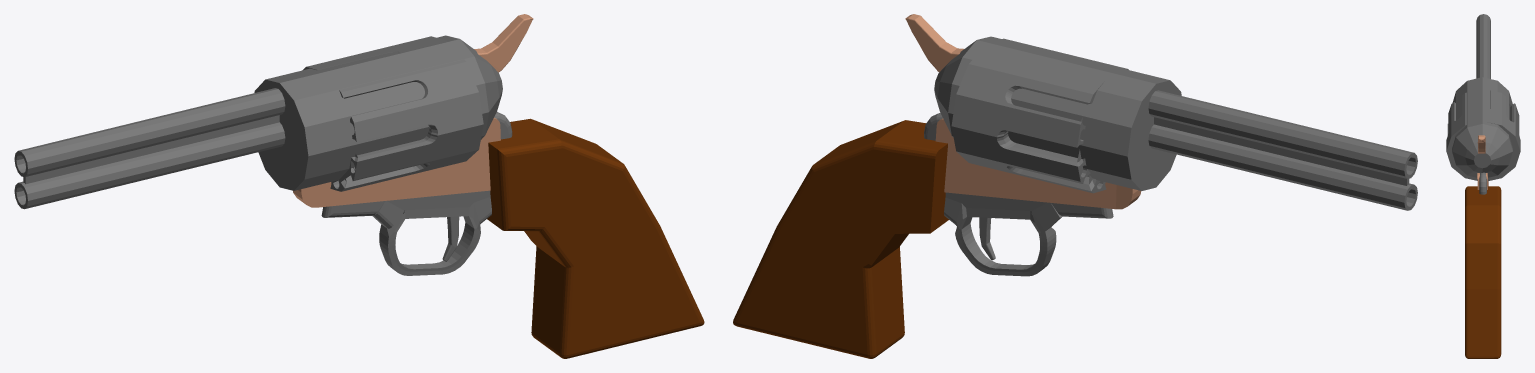
File: revolver.fbx
3 renders of one model, left to right at view 1: azimuth 30°, elevation 25°; view 2: azimuth 150°, elevation 25°; view 3: azimuth 270°, elevation 25°, orthographic. The views are drawn at different scales.
Parts seen in each view (by area): view 1: revolver; view 2: revolver; view 3: revolver.
Part boxes in pixels (bbox=[...]): revolver: bbox=[14, 14, 704, 358]; revolver: bbox=[733, 14, 1417, 358]; revolver: bbox=[1446, 14, 1520, 358].
Size of the model in its own units: 55.39 by 26.9 by 10.04.
